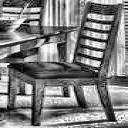chair_success: (8, 0, 124, 126)
